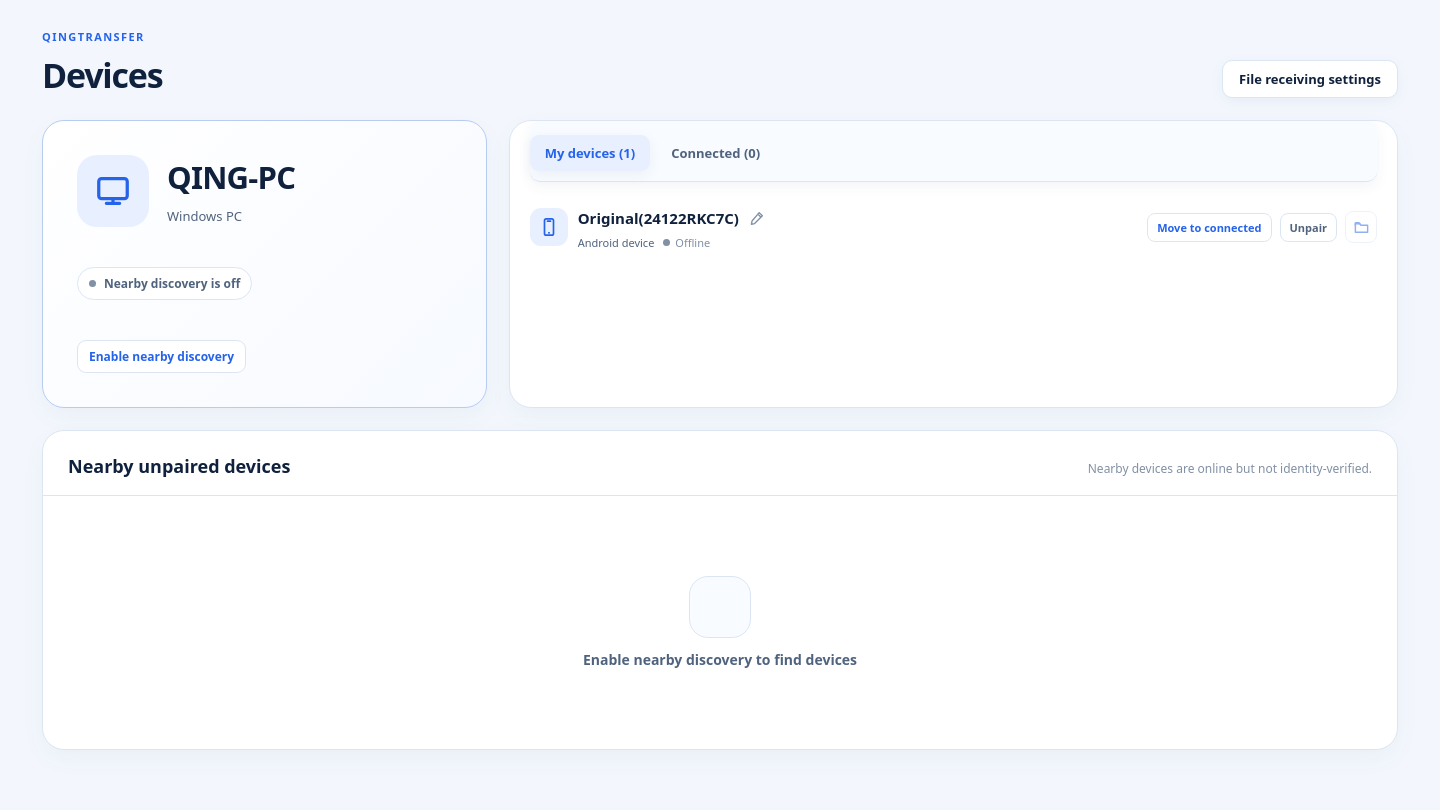
Test case: DevicesPage › keeps the old name and input open on save failure and cancels without changing the device
The width and height of the screenshot is (1440, 810).
Click the button with class "devices-remark-action" at [757, 218], box [744,205,771,232]
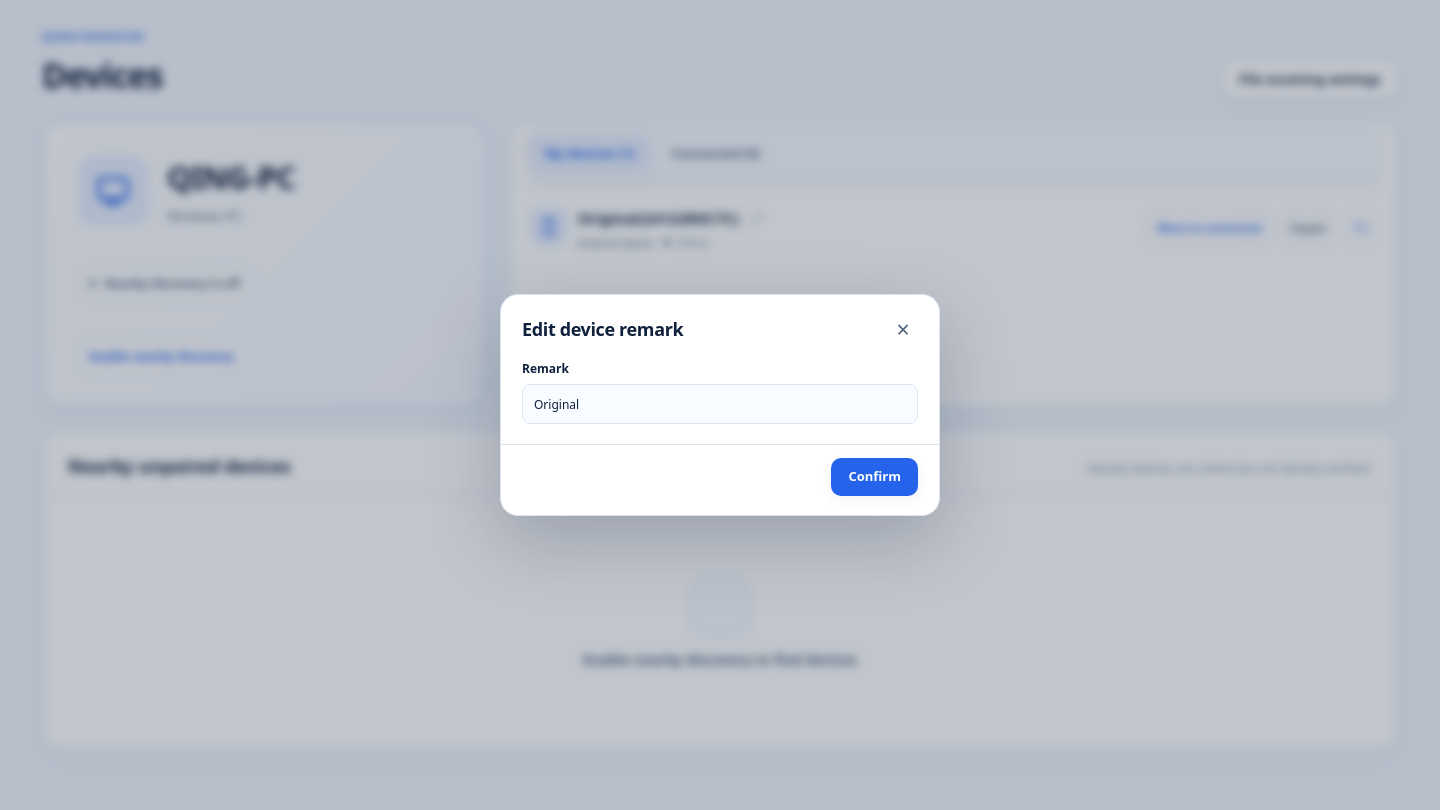
Replace the text in the field labelled "Remark" with "Replacement" at [720, 404], box [522,384,918,424]
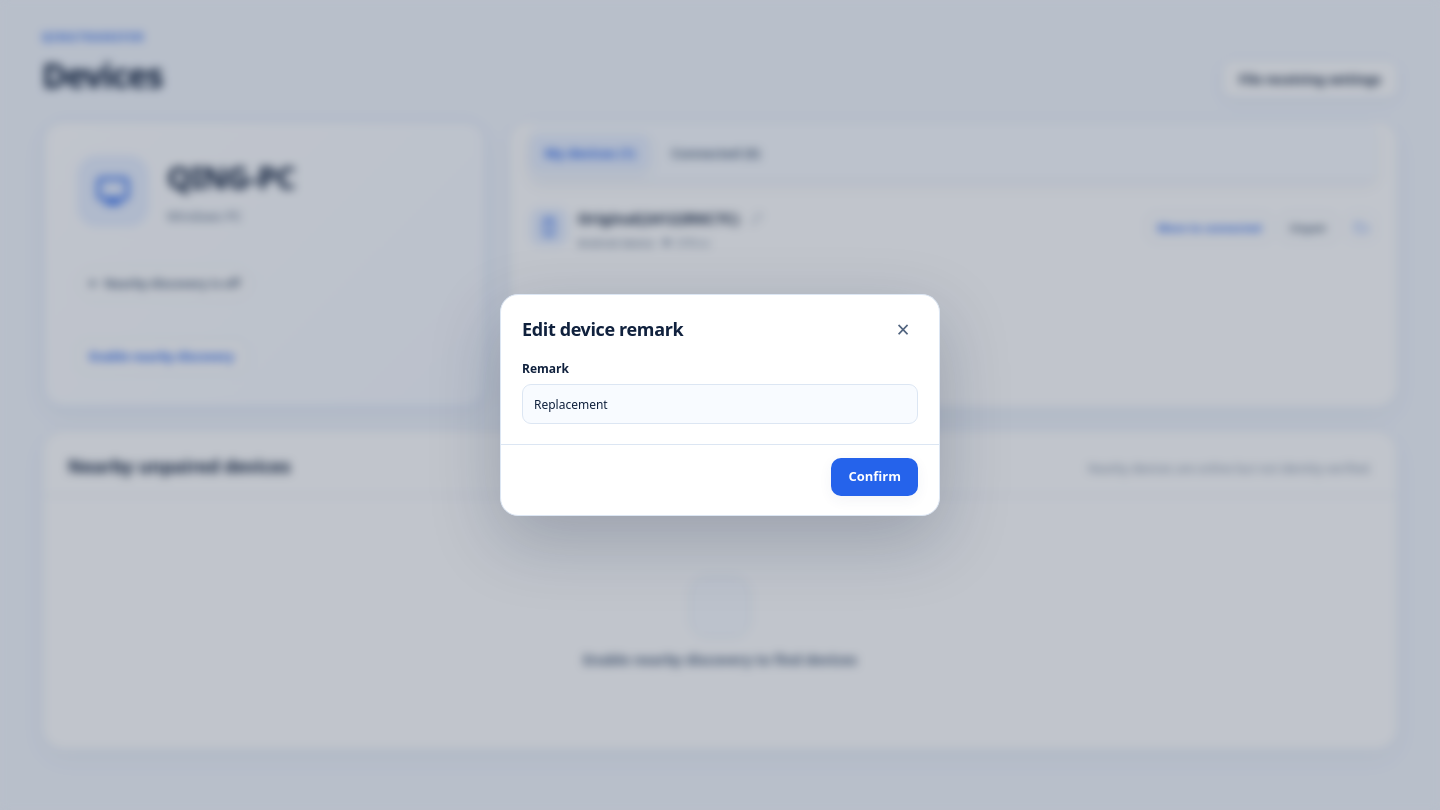
Click the button with class "is-primary" at [875, 477], box [832,458,918,496]
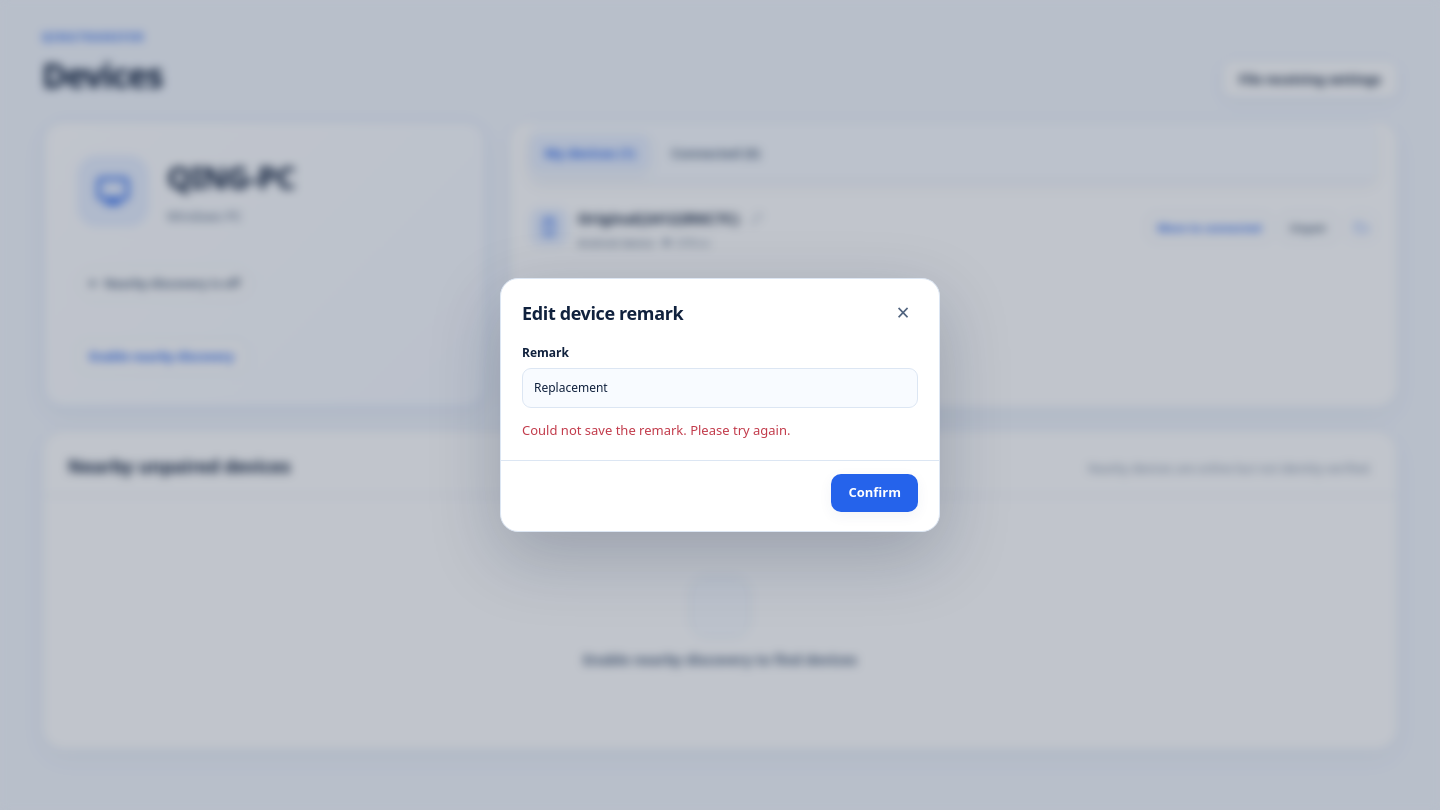
Expected: the text "Original(24122RKC7C)" is shown, [578,208,739,228]
Expected: the message "Could not save the remark. Please try again." is shown, [522,421,790,439]
Click the button "×" at [903, 313], box [888,298,918,328]
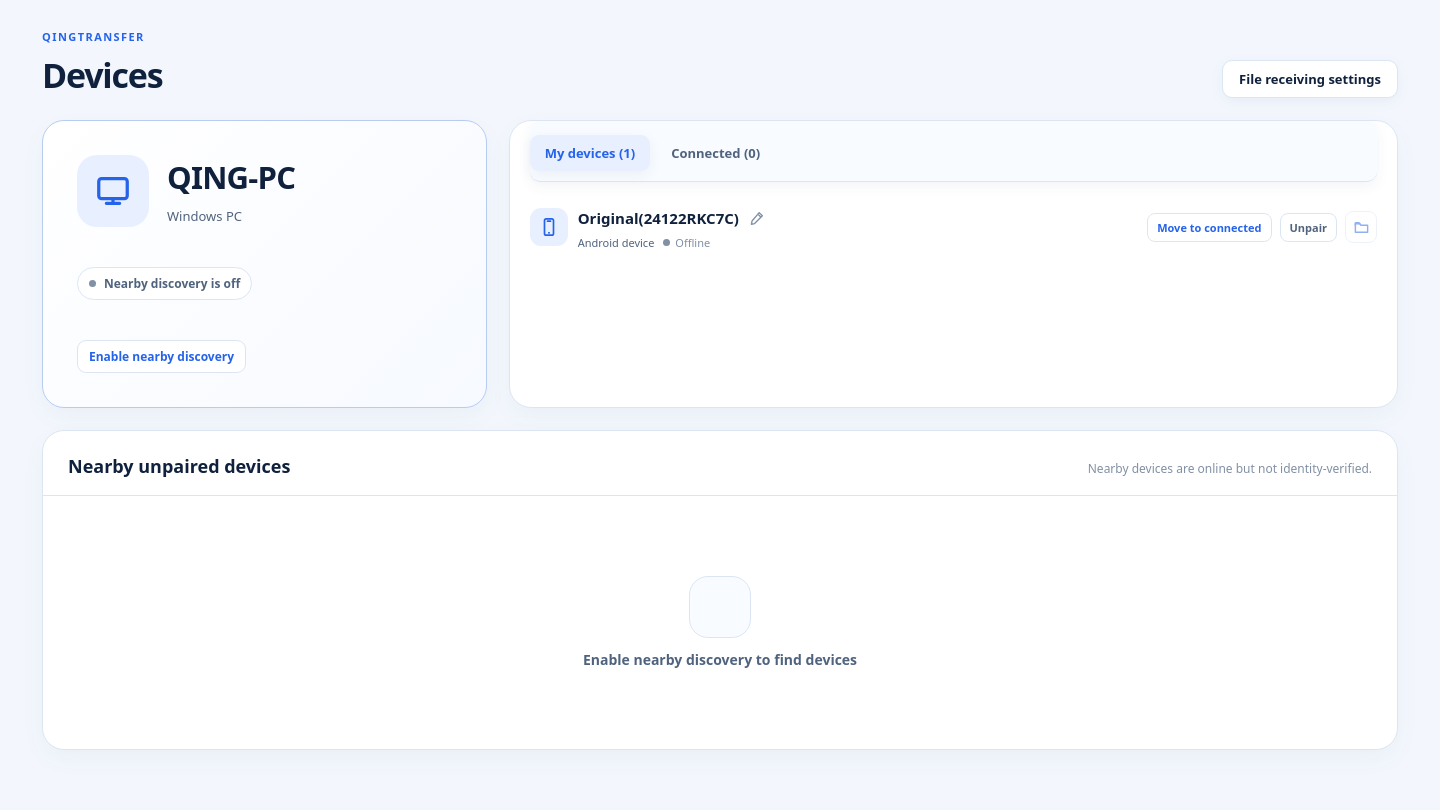
Expected: the dialog is gone
